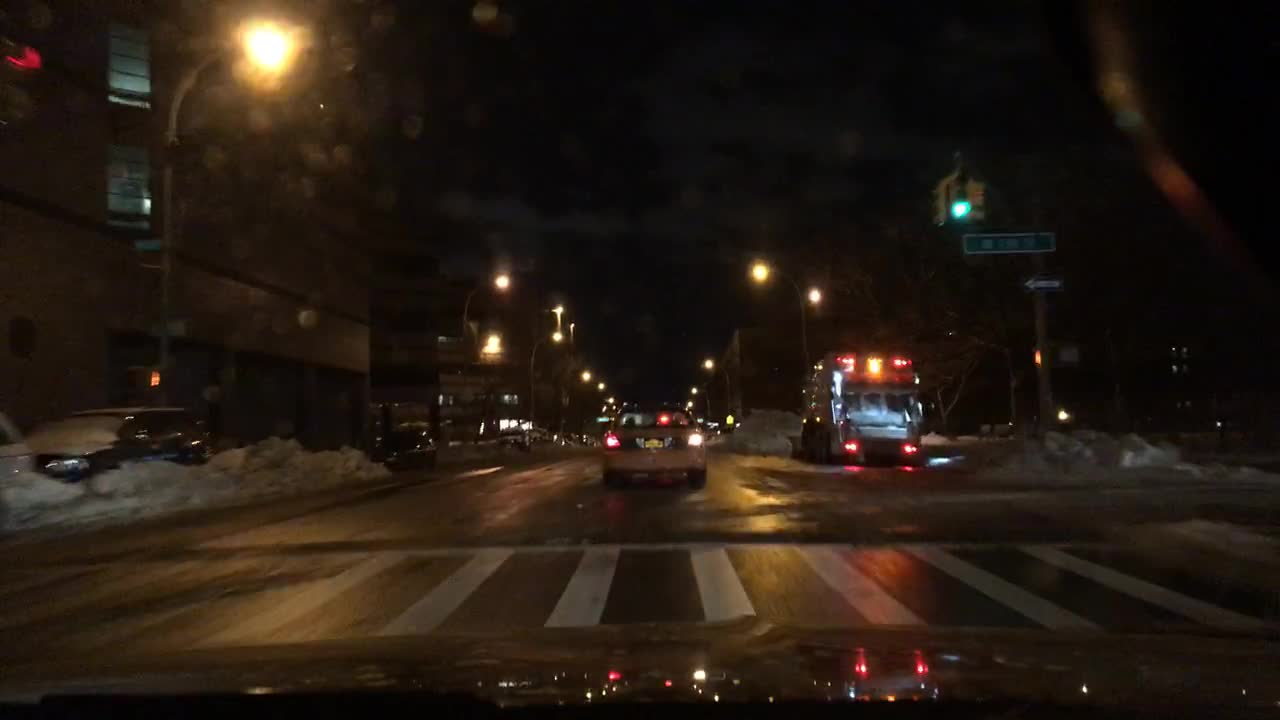car: (22, 404, 216, 483), (598, 404, 707, 490), (366, 422, 441, 474), (0, 402, 29, 486), (497, 427, 530, 451), (524, 423, 547, 442), (573, 428, 586, 445), (561, 428, 572, 445), (582, 430, 593, 447), (549, 428, 559, 442)
traffic light: (0, 38, 42, 143), (925, 183, 944, 227), (967, 178, 984, 225), (949, 185, 967, 223), (133, 368, 163, 388), (1028, 344, 1040, 368)
traffic sign: (960, 232, 1056, 253), (145, 318, 183, 335), (1024, 276, 1065, 291), (133, 237, 163, 248), (724, 414, 736, 428)
truck: (791, 352, 922, 465)
